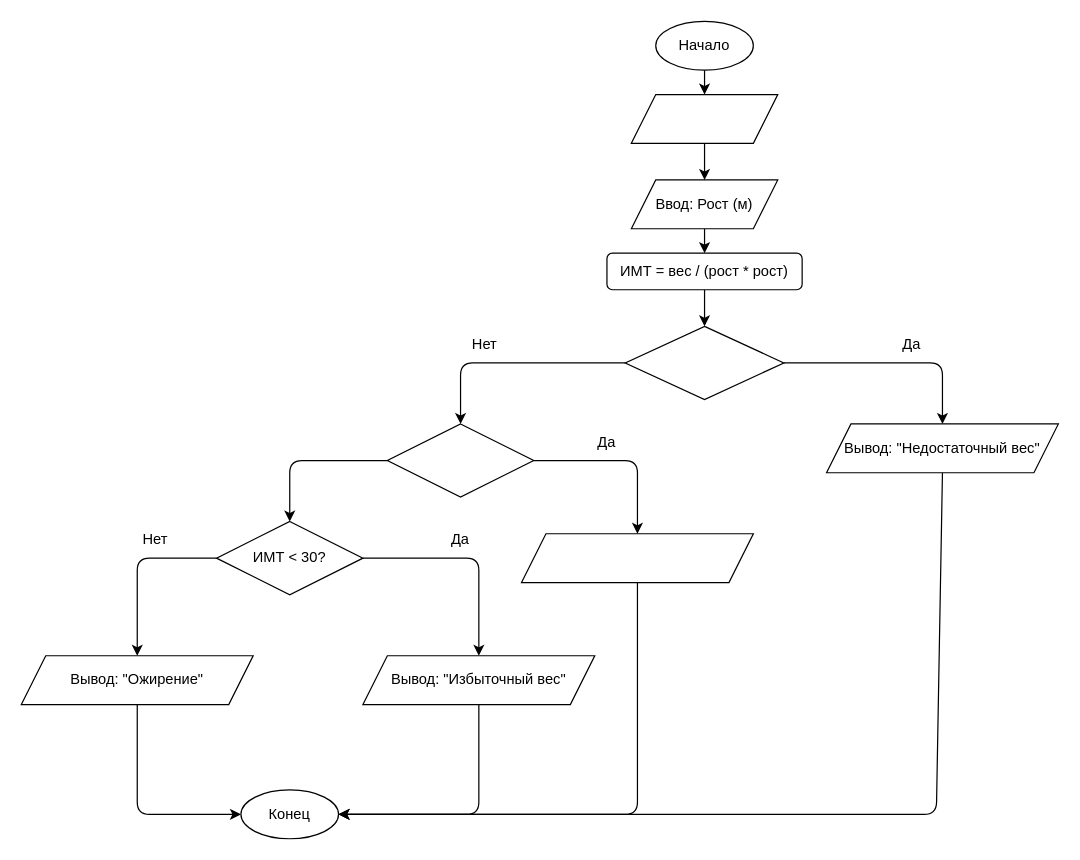
This 1080x860 diagram has some shape labels left out. The shapes that lost their labels are listed below. From the top down, each one's centre as x and y in pixels, then its label:
point (704, 118): Ввод: Вес (кг)
point (704, 362): ИМТ < 18.5?
point (460, 460): ИМТ < 25?
point (636, 558): Вывод: "Нормальный вес"
